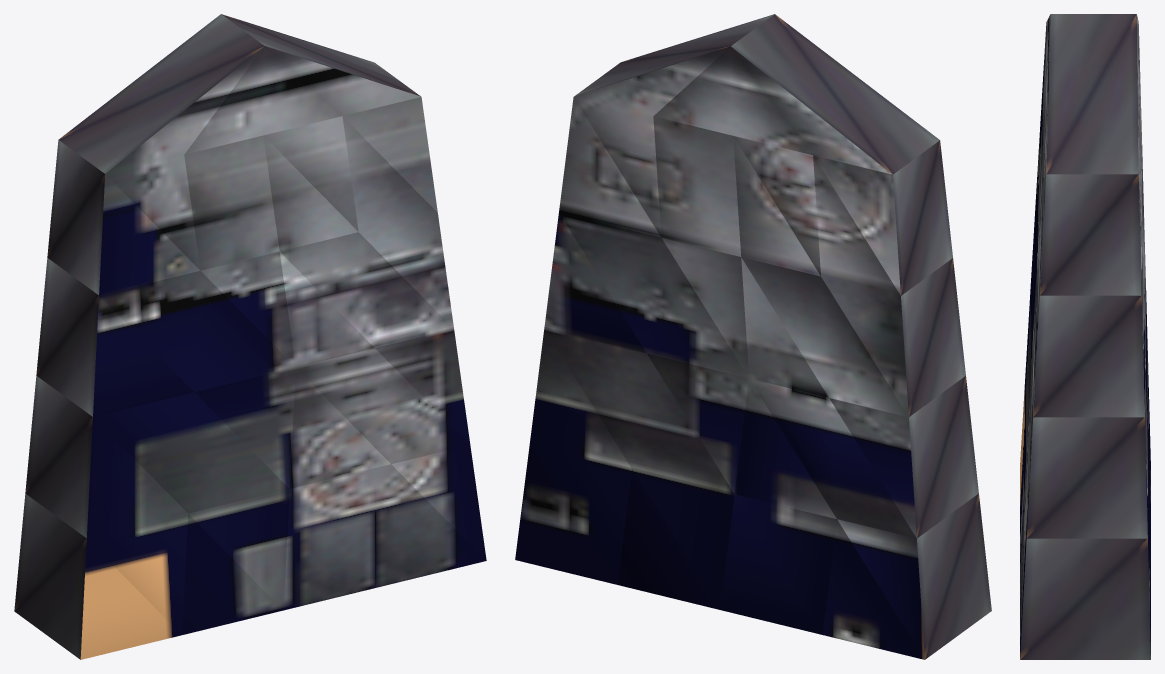
Rendered from system.ico.obj.
3 views of the same model, side by side, from view 1: azimuth 30°, elevation 25°; view 2: azimuth 150°, elevation 25°; view 3: azimuth 270°, elevation 25° (orthographic). The views are drawn at different scales.
Size of the model in its own units: 3.14 by 4.09 by 0.8879.
